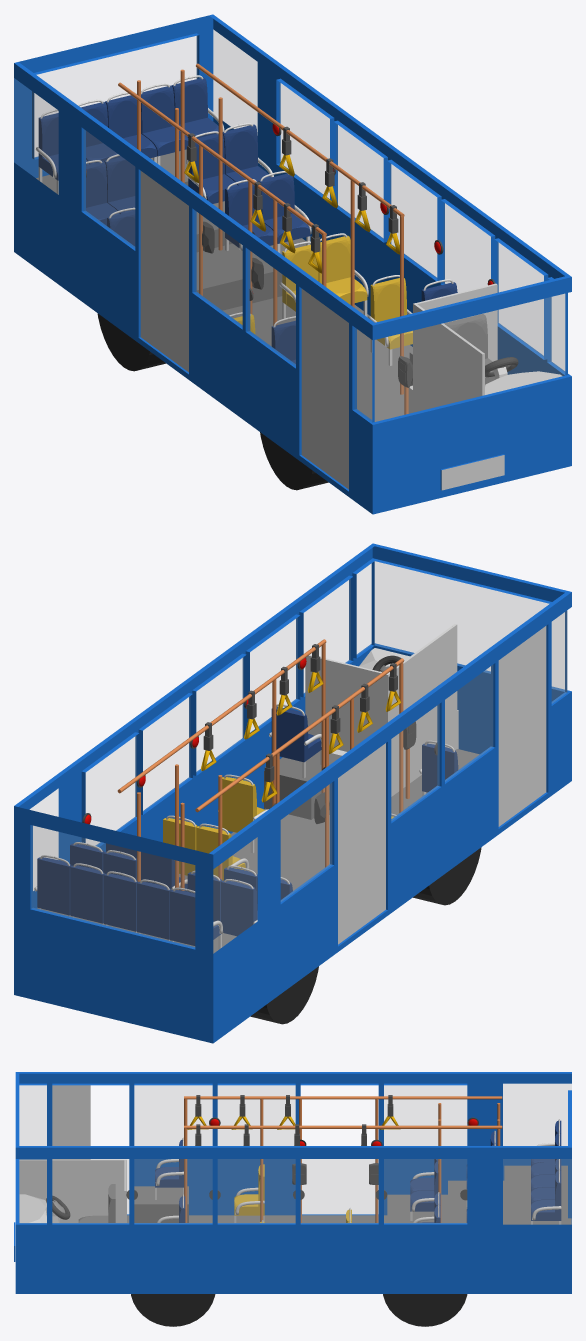
File: bus1.glb
The picture shows the model from 3 angles, top to bottom: view 1: azimuth 30°, elevation 25°; view 2: azimuth 150°, elevation 25°; view 3: azimuth 270°, elevation 25°; orthographic projection. The views are drawn at different scales.
Parts seen in each view (by area): view 1: Cube.001, Cube.136, Cube.143, Plane.004, Cube.005, Cube.003, Cube.141, Cube.140, Cube.139, Cube.002, Cube.004, Cube.142 (+35 smaller); view 2: Cube.001, Cube.143, Cube.136, Plane.005, Cube.002, Cube.141, Cube.004, Cube.140, Cube.003, Cube.139, Plane.004, Cube.005 (+30 smaller); view 3: Cube.001, Cube.134, Cube.131, Cube.132, Cube.133, Cube.035, Plane.004, Cube.135, Cube.141, Cube.139, Cube.142, Cube.140 (+21 smaller).
Boxes of the visible parts, bbox=[...] form: Cube.001: bbox=[14, 14, 571, 514]; Cube.136: bbox=[375, 294, 564, 421]; Cube.143: bbox=[35, 36, 197, 157]; Plane.004: bbox=[413, 303, 481, 407]; Cube.005: bbox=[140, 171, 165, 355]; Cube.003: bbox=[301, 289, 326, 472]; Cube.141: bbox=[84, 130, 134, 247]; Cube.140: bbox=[194, 211, 242, 326]; Cube.139: bbox=[248, 250, 295, 365]; Cube.002: bbox=[326, 306, 348, 489]; Cube.004: bbox=[166, 189, 188, 372]; Cube.142: bbox=[14, 78, 58, 193]; Cube.001: bbox=[14, 543, 571, 1043]; Cube.143: bbox=[31, 825, 194, 948]; Cube.136: bbox=[375, 561, 564, 691]; Plane.005: bbox=[305, 654, 385, 751]; Cube.002: bbox=[521, 626, 546, 810]; Cube.141: bbox=[281, 783, 331, 901]; Cube.004: bbox=[361, 743, 385, 927]; Cube.140: bbox=[391, 704, 439, 820]; Cube.003: bbox=[498, 644, 521, 826]; Cube.139: bbox=[445, 665, 492, 781]; Plane.004: bbox=[385, 626, 453, 760]; Cube.005: bbox=[338, 761, 360, 944]; Cube.001: bbox=[14, 1072, 571, 1293]; Cube.134: bbox=[384, 1159, 466, 1223]; Cube.131: bbox=[134, 1159, 212, 1223]; Cube.132: bbox=[218, 1159, 295, 1223]; Cube.133: bbox=[301, 1159, 378, 1223]; Cube.035: bbox=[52, 1159, 128, 1223]; Plane.004: bbox=[24, 1159, 126, 1222]; Cube.135: bbox=[503, 1159, 571, 1224]; Cube.141: bbox=[384, 1085, 466, 1145]; Cube.139: bbox=[134, 1085, 212, 1145]; Cube.142: bbox=[503, 1084, 571, 1145]; Cube.140: bbox=[218, 1085, 295, 1145].
Size of the model in its own units: 2.45 by 2.81 by 7.67.
